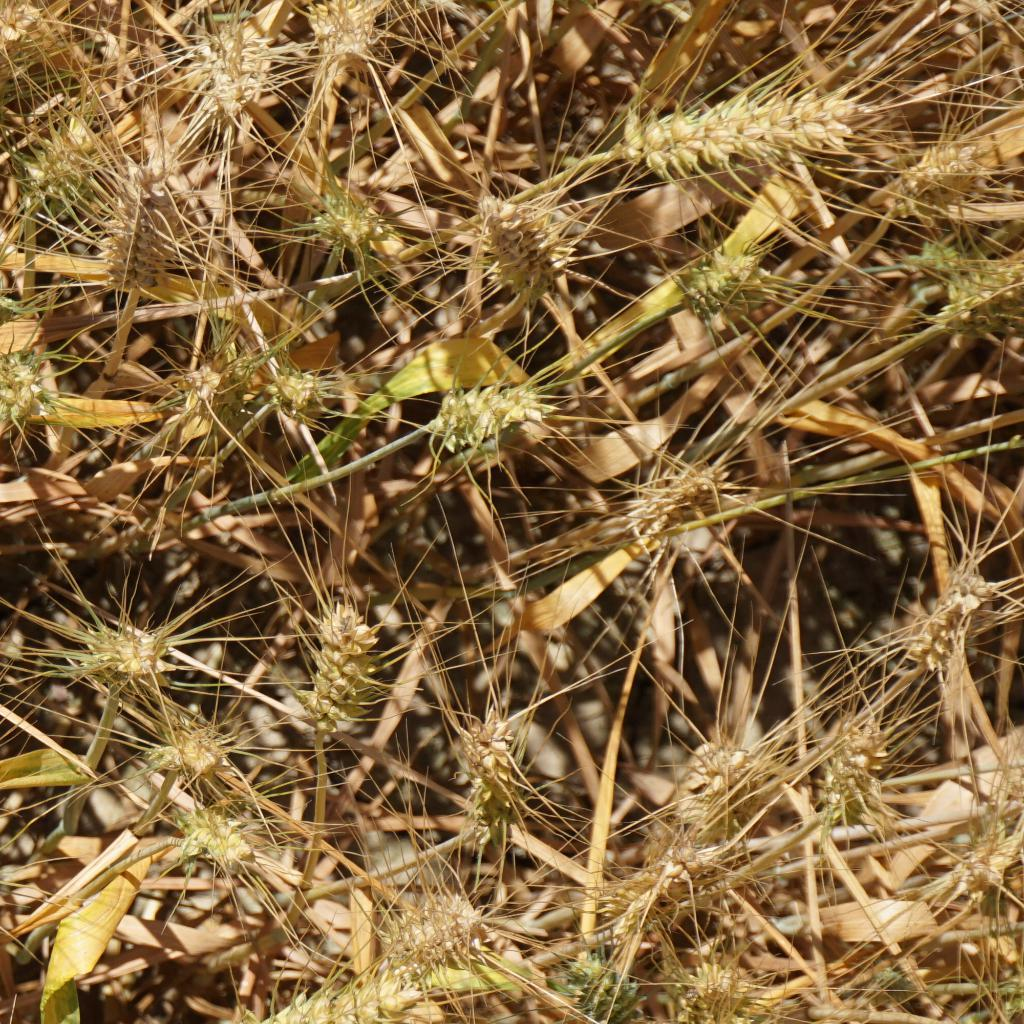0-0: (627, 73, 854, 173), (382, 877, 502, 985), (878, 124, 996, 233), (587, 457, 738, 539), (298, 601, 382, 738), (472, 186, 561, 308), (96, 160, 172, 287), (227, 974, 418, 1024), (431, 367, 544, 449), (594, 836, 705, 918), (901, 577, 984, 682), (455, 708, 528, 820), (813, 716, 887, 822), (159, 800, 257, 874), (186, 24, 259, 120), (95, 614, 177, 699), (662, 952, 758, 1024), (142, 712, 237, 783), (12, 119, 95, 199), (685, 230, 759, 311), (947, 256, 1024, 331), (306, 0, 388, 69), (559, 960, 647, 1024), (667, 736, 736, 816), (305, 175, 371, 254), (954, 816, 1015, 888), (172, 339, 237, 406), (261, 354, 324, 422), (0, 345, 54, 419), (908, 220, 968, 281), (0, 5, 28, 129), (0, 256, 24, 329)
